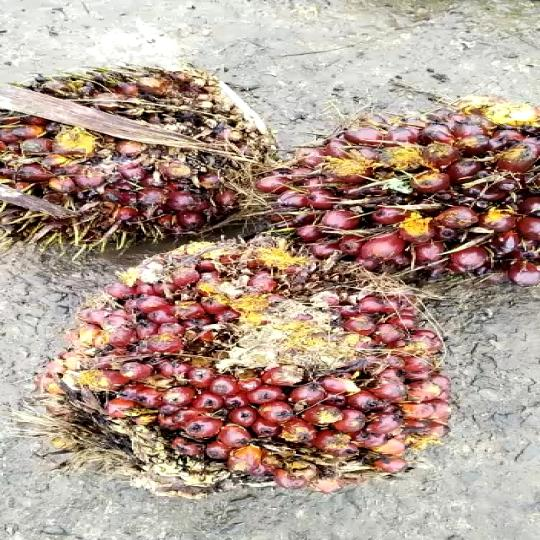masak: (65, 232, 464, 502), (0, 72, 286, 255), (282, 102, 540, 300)
